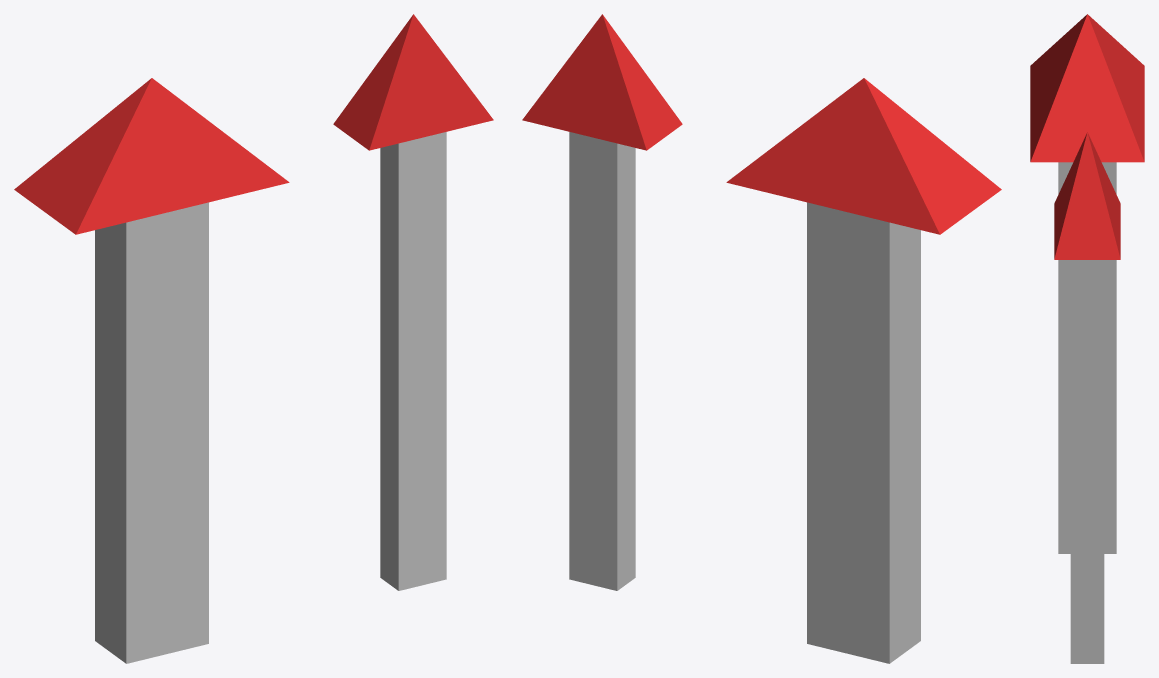
Rendered from arrow_for_clock.fbx.
The picture shows the model from 3 angles, left to right: view 1: azimuth 30°, elevation 25°; view 2: azimuth 150°, elevation 25°; view 3: azimuth 270°, elevation 25°; orthographic projection. The views are drawn at different scales.
Parts seen in each view (by area): view 1: arrow_big, arrow_small; view 2: arrow_big, arrow_small; view 3: arrow_big, arrow_small.
Part boxes in pixels (<box>): arrow_big: <box>14,78,289,663</box>; arrow_small: <box>333,14,493,590</box>; arrow_big: <box>726,78,1001,663</box>; arrow_small: <box>522,14,682,590</box>; arrow_big: <box>1030,14,1144,553</box>; arrow_small: <box>1054,132,1120,663</box>.
Size of the model in its own units: 198 by 247 by 49.11.
